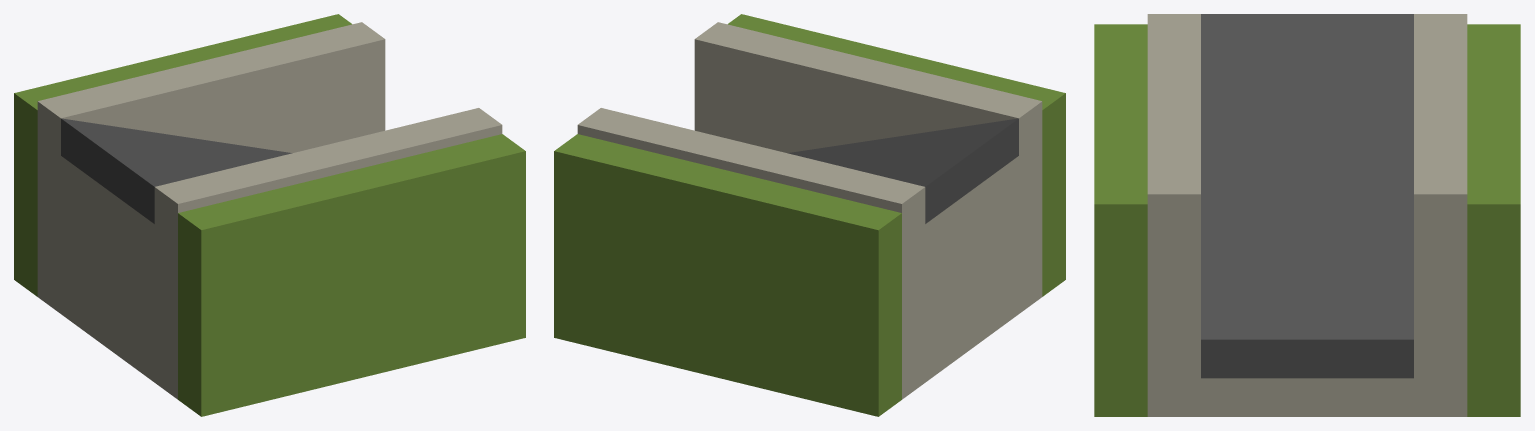
The model's file is roadTile_179.obj.
3 renders of one model, left to right at view 1: azimuth 30°, elevation 25°; view 2: azimuth 150°, elevation 25°; view 3: azimuth 270°, elevation 25°, orthographic. The views are drawn at different scales.
Parts seen in each view (by area): view 1: Mesh1_Group1_Model.018; view 2: Mesh1_Group1_Model.018; view 3: Mesh1_Group1_Model.018.
Part boxes in pixels (<box>): Mesh1_Group1_Model.018: <box>14,14,525,416</box>; Mesh1_Group1_Model.018: <box>554,14,1065,416</box>; Mesh1_Group1_Model.018: <box>1094,14,1520,416</box>.
Bounding box in the file's own units: 3 × 1.73 × 3.
